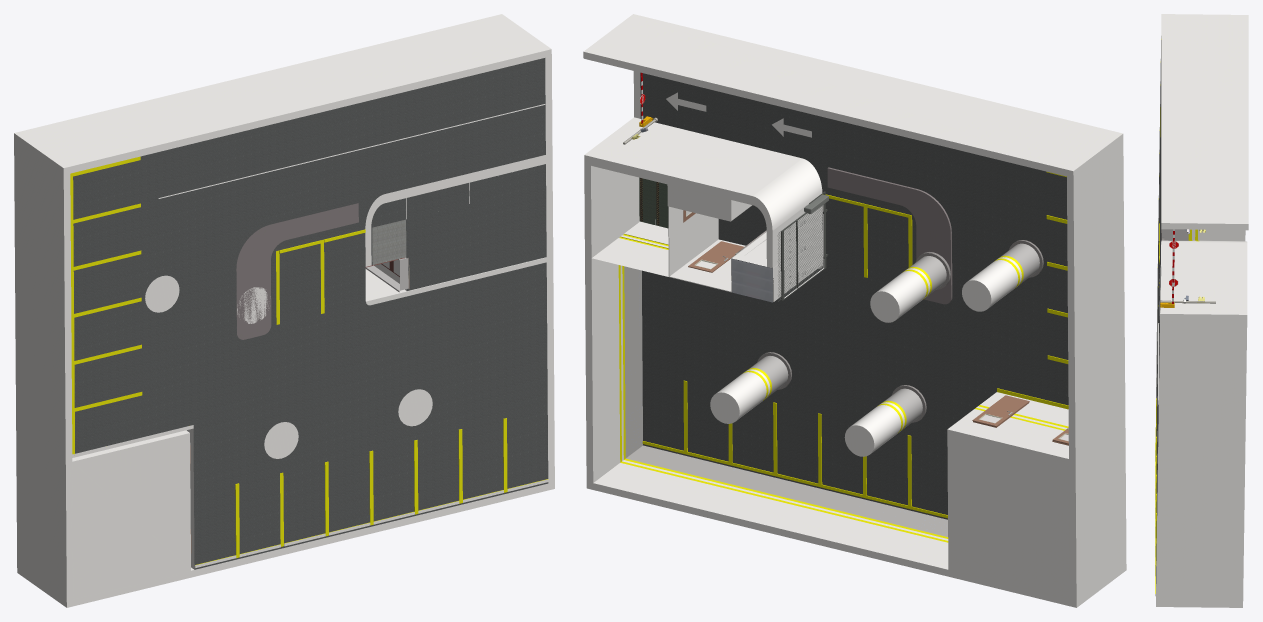
File: parking-transformed.glb
3 views of the same model, side by side, from view 1: azimuth 30°, elevation 25°; view 2: azimuth 150°, elevation 25°; view 3: azimuth 270°, elevation 25° (orthographic). The views are drawn at different scales.
Visible parts, largest first — view 1: Car_parking0037; view 2: Car_parking0037; view 3: Car_parking0037.
Boxes of the visible parts, bbox=[...] form: Car_parking0037: bbox=[14, 14, 554, 607]; Car_parking0037: bbox=[583, 14, 1126, 607]; Car_parking0037: bbox=[1155, 14, 1248, 607].
Bounding box in the file's own units: 36.88 × 31.66 × 6.96.
Materials: 16 (16 with a texture image).
